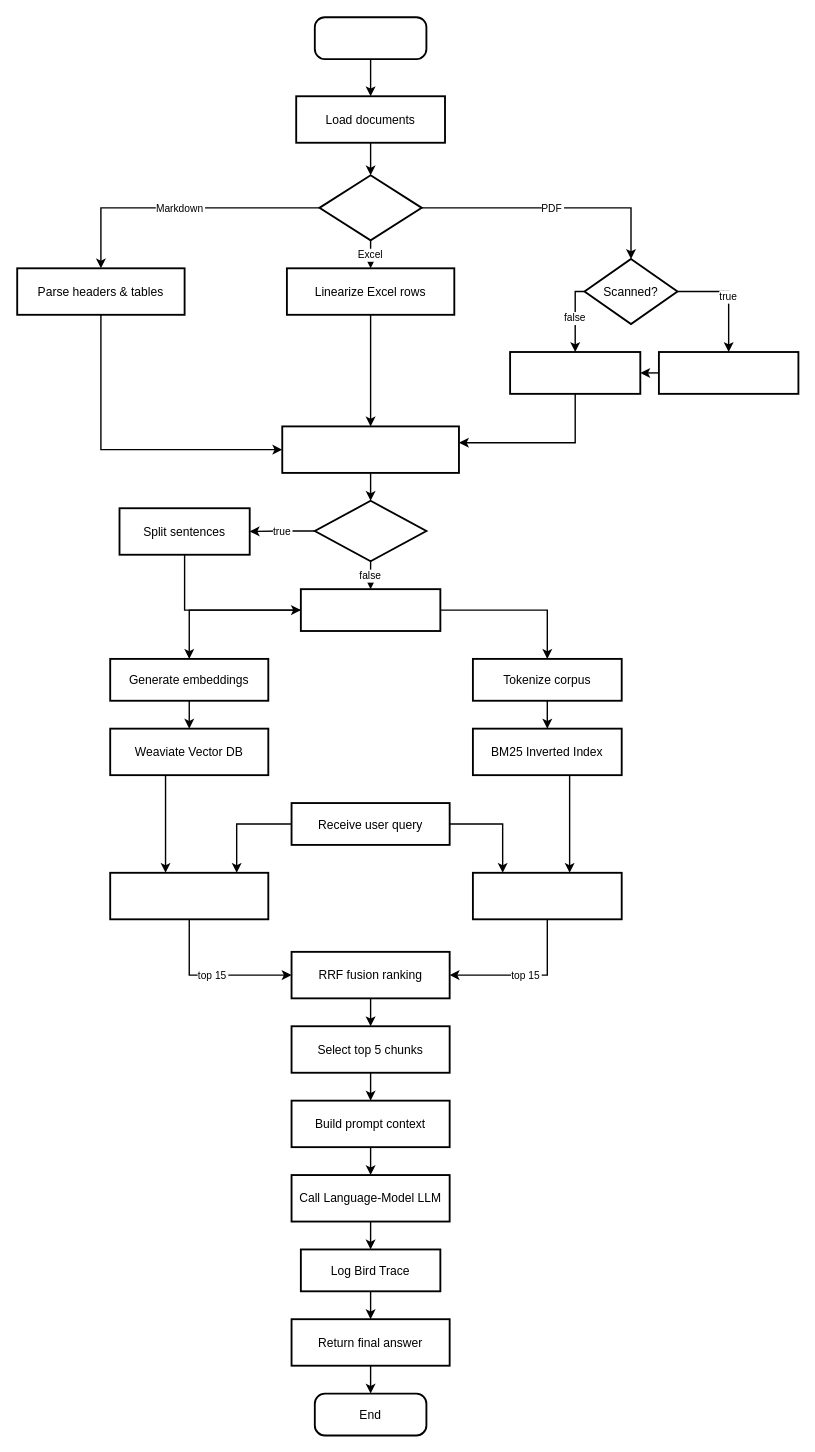
The diagram is 815 pixels wide and 1452 high, and some of its shapes have lost their labels. Here are the shapes that lost their labels. From the top down, the box of each, then its label:
(313, 16, 427, 60): Start
(318, 174, 422, 241): File type?
(509, 351, 641, 394): Extract digital text
(658, 351, 799, 394): RapidOCR extraction
(281, 425, 459, 473): Enrich with breadcrumbs
(313, 499, 427, 562): Length > 800?
(299, 588, 441, 631): Dual indexing
(109, 871, 269, 920): Dense vector search
(472, 871, 622, 920): BM25 keyword search
